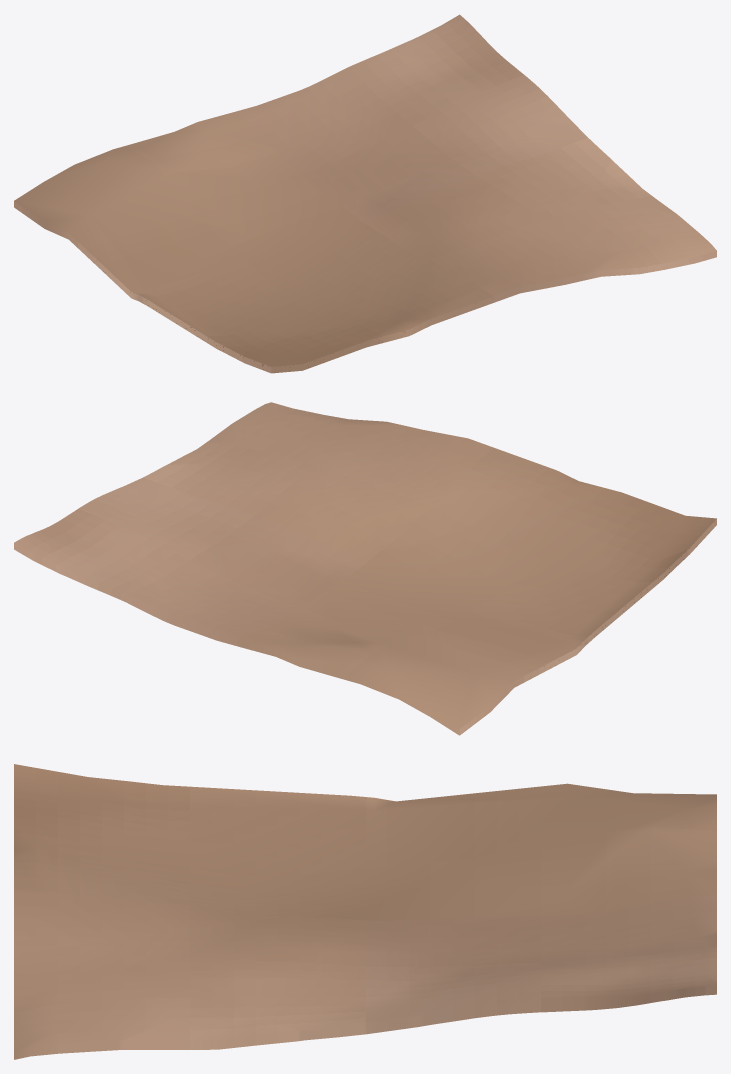
3 views of the same model, one above another, from view 1: azimuth 30°, elevation 25°; view 2: azimuth 150°, elevation 25°; view 3: azimuth 270°, elevation 25° (orthographic). The views are drawn at different scales.
Size of the model in its own units: 2 by 0.3829 by 2.
1 material, 1 textured.
